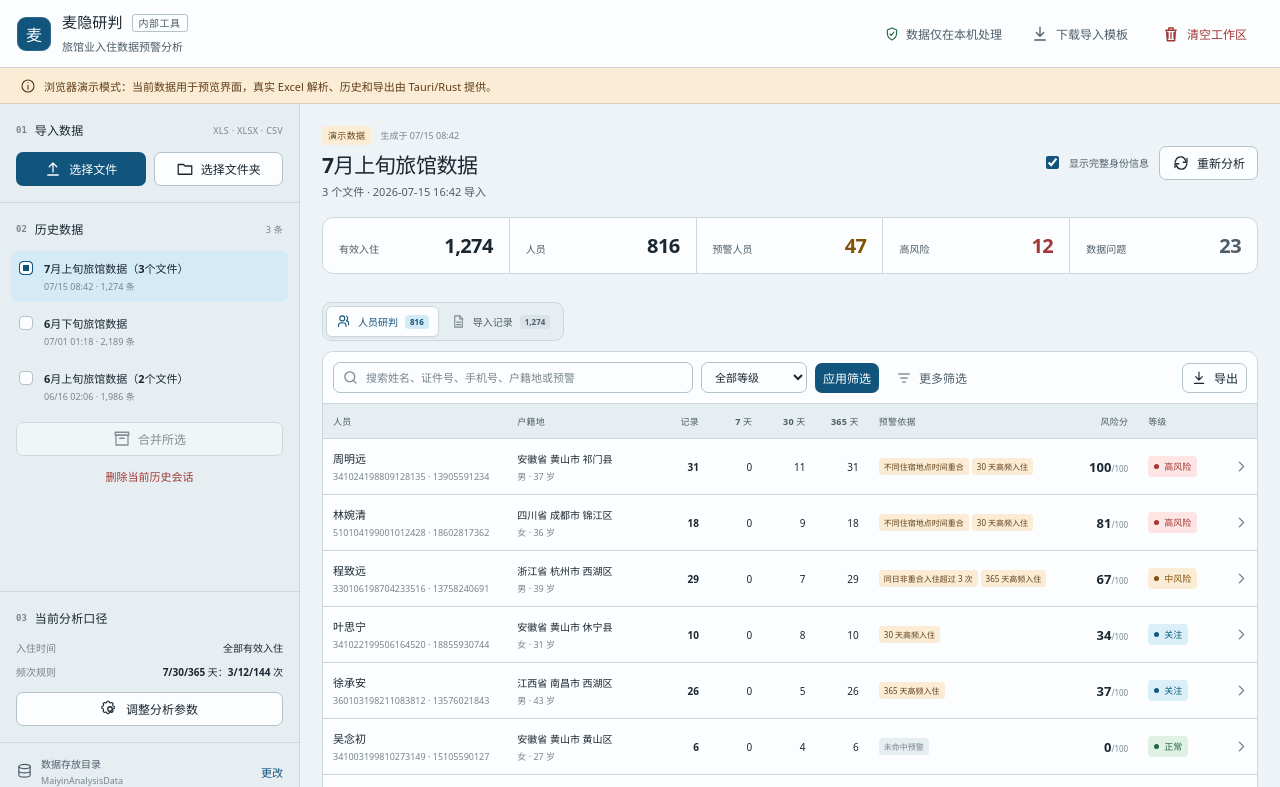
Test case: App › links alerts to evidence and restores all evidence on demand
Check: the heading "7月上旬旅馆数据" is shown, box [322,152,486,178]
Click the button named "查看 周明远 详情". click: x=1242, y=467
box: [1228,453,1255,480]
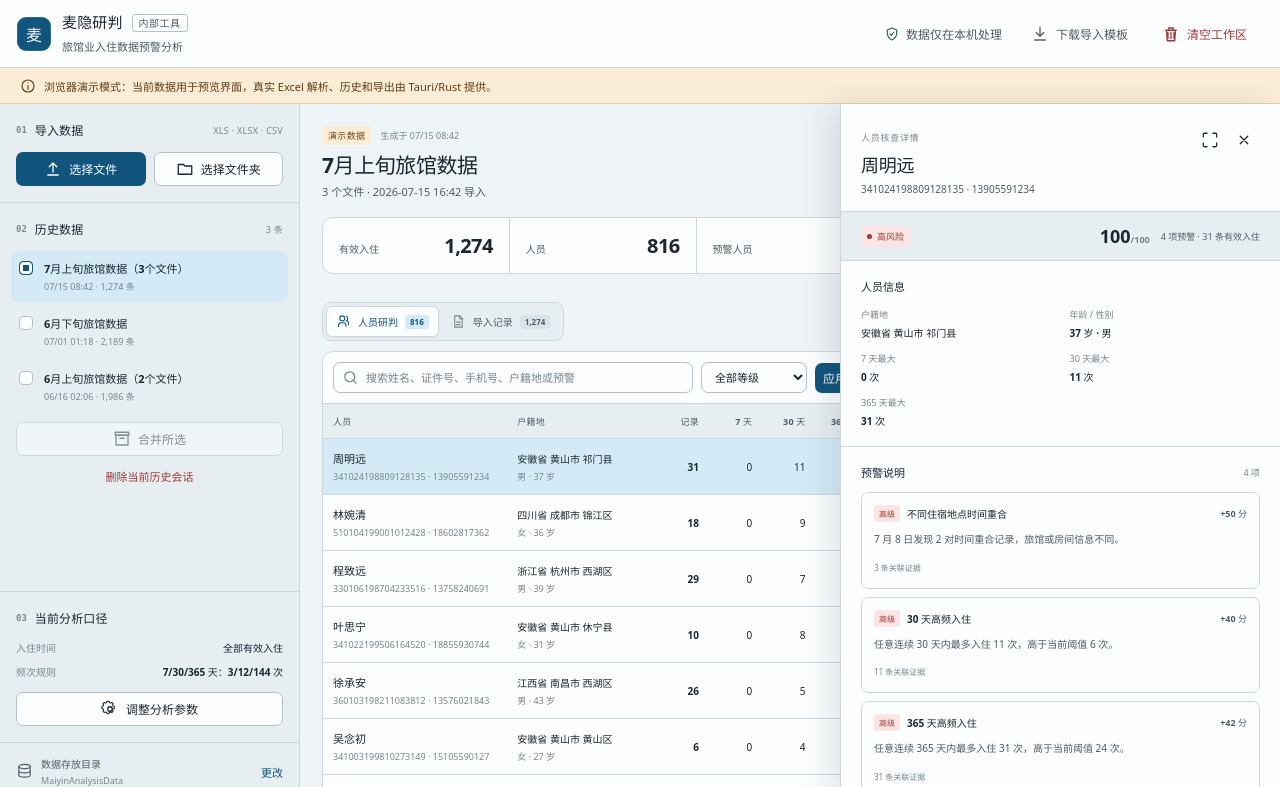
Check: the heading "周明远" is shown, box [861,153,914,177]
Click the button "不同住宿地点时间重合". click: x=1060, y=540
box: [861,492,1260,588]
(page scrolled)
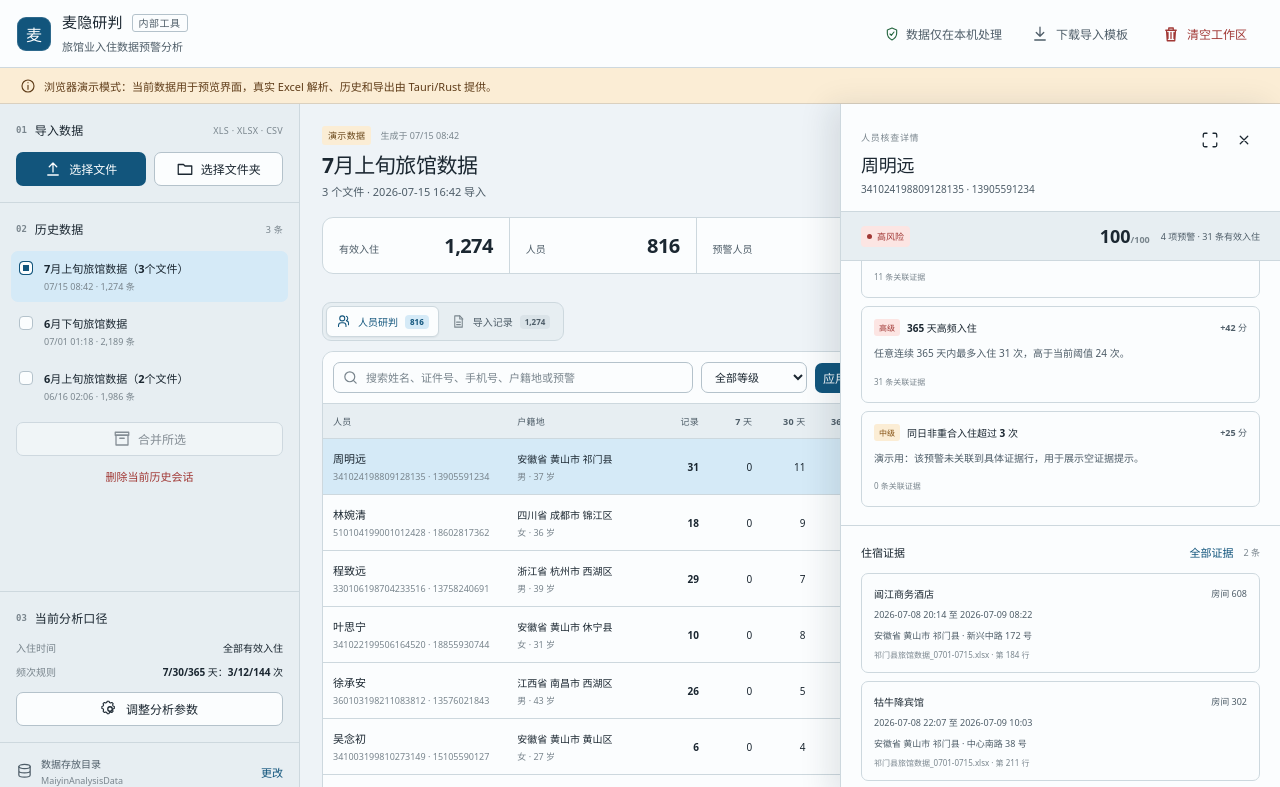
Check: the text "阊江商务酒店" is shown, box [874,586,934,601]
Check: the text "牯牛降宾馆" is shown, box [874,694,924,709]
Click the button "全部证据". click: x=1212, y=552
box: [1190,543,1234,561]
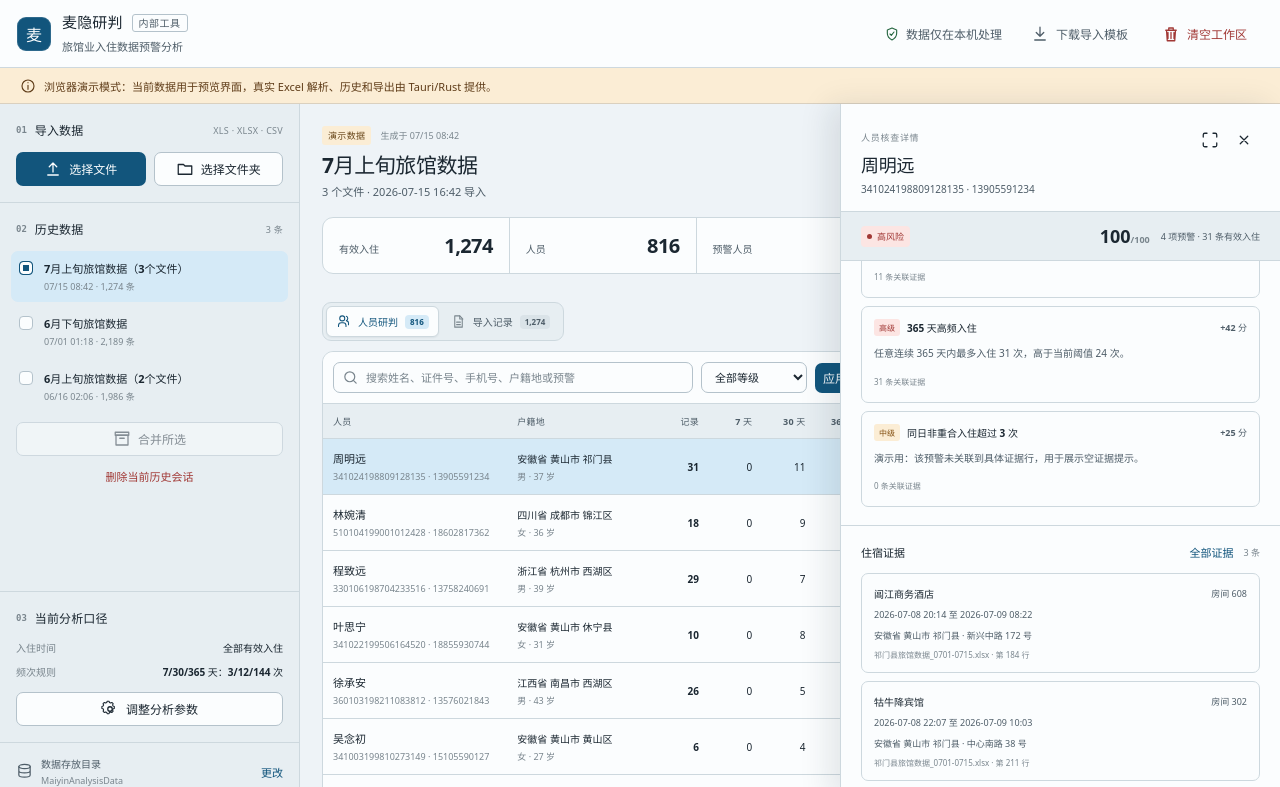
Click the button "同日非重合入住超过 3 次". click: x=1060, y=459
box: [861,410,1260,507]
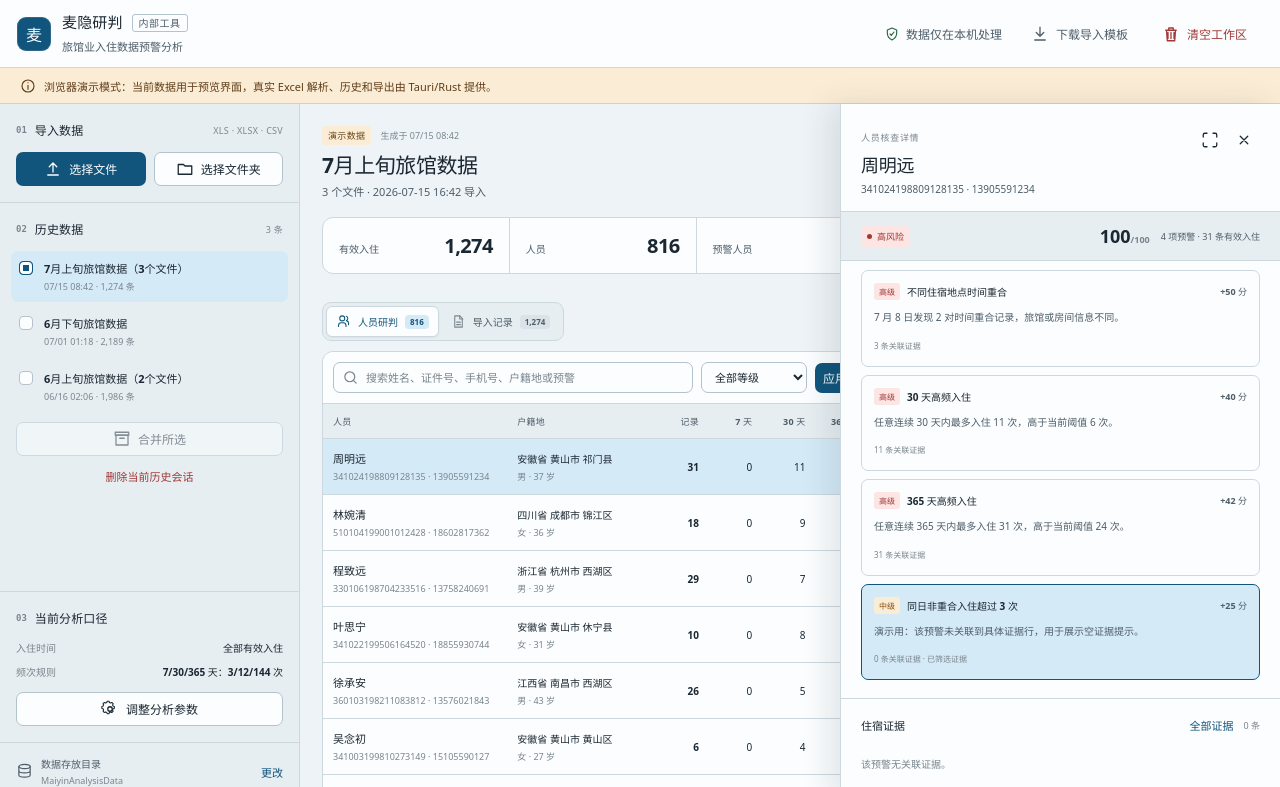
Check: the text "该预警无关联证据。" is shown, box [861,757,951,771]
Check: the text "阊江商务酒店" is gone
